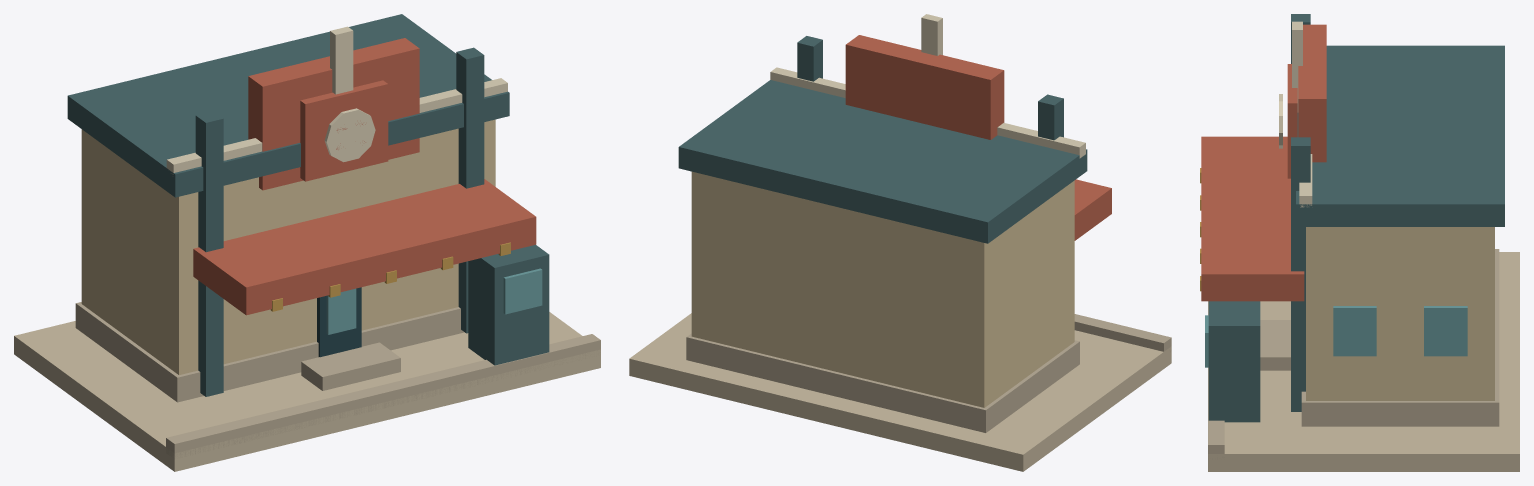
File: cinema-complete.glb
3 views of the same model, side by side, from view 1: azimuth 30°, elevation 25°; view 2: azimuth 150°, elevation 25°; view 3: azimuth 270°, elevation 25° (orthographic). The views are drawn at different scales.
Parts seen in each view (by area): view 1: cinema; view 2: cinema; view 3: cinema.
Boxes of the visible parts, left/top/right/bottom form: cinema: left=14, top=14, right=600, bottom=471; cinema: left=629, top=14, right=1171, bottom=471; cinema: left=1200, top=14, right=1519, bottom=471.
Bounding box in the file's own units: 2.88 × 2.29 × 1.93.
